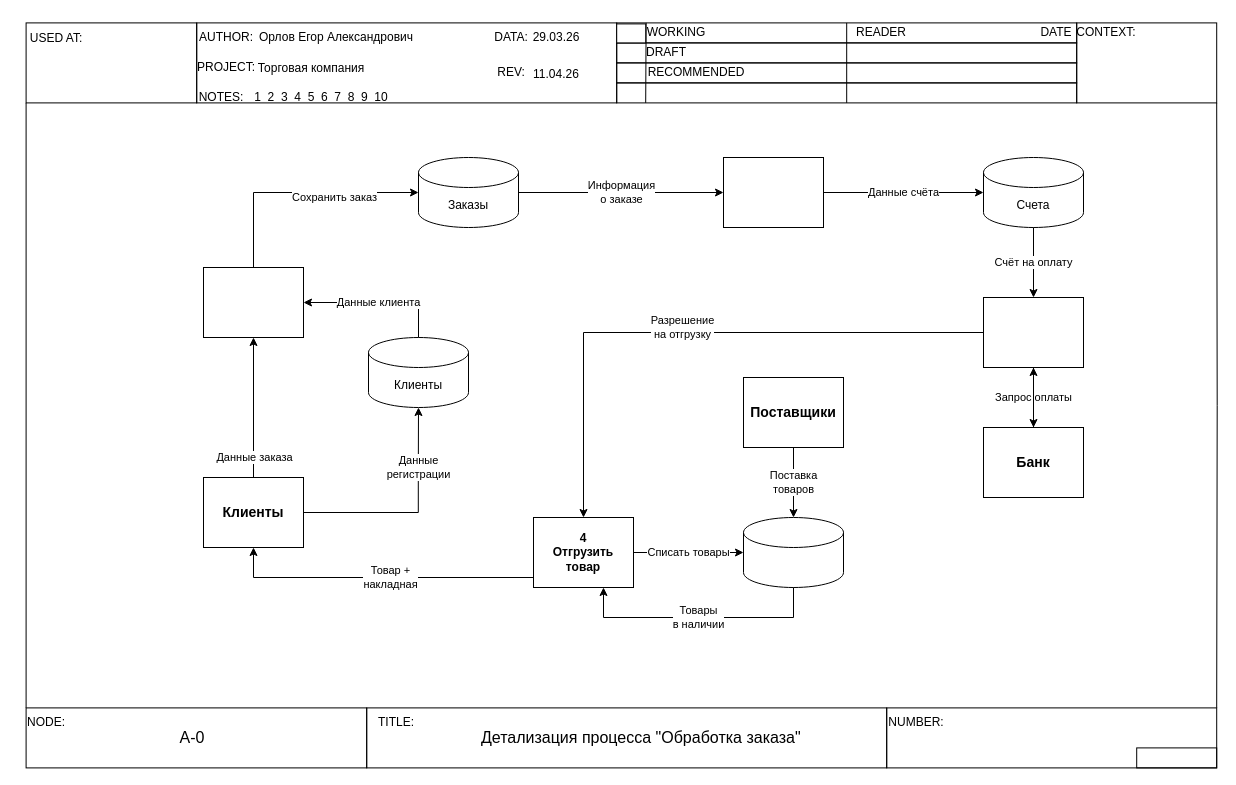
Image size: 1236x785. Some labels were removed from this diagram. Each missing label, with the centre of its shape:
"1 Оформить заказ" goes at [253,302].
"2 Выставить счёт" goes at [773,192].
"3 Проверить оплату" goes at [1033,332].
"PUBLICATION" goes at [846,92].
"Склад (Товары)" goes at [793,552].
